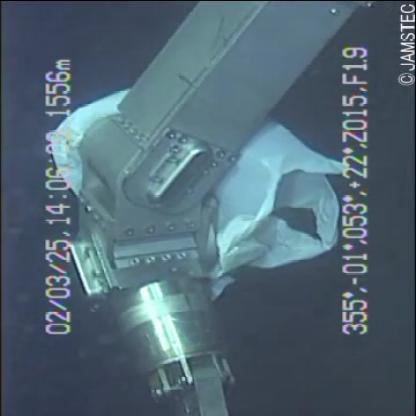Rov: (61, 0, 377, 413)
Rác: (22, 80, 358, 289)
